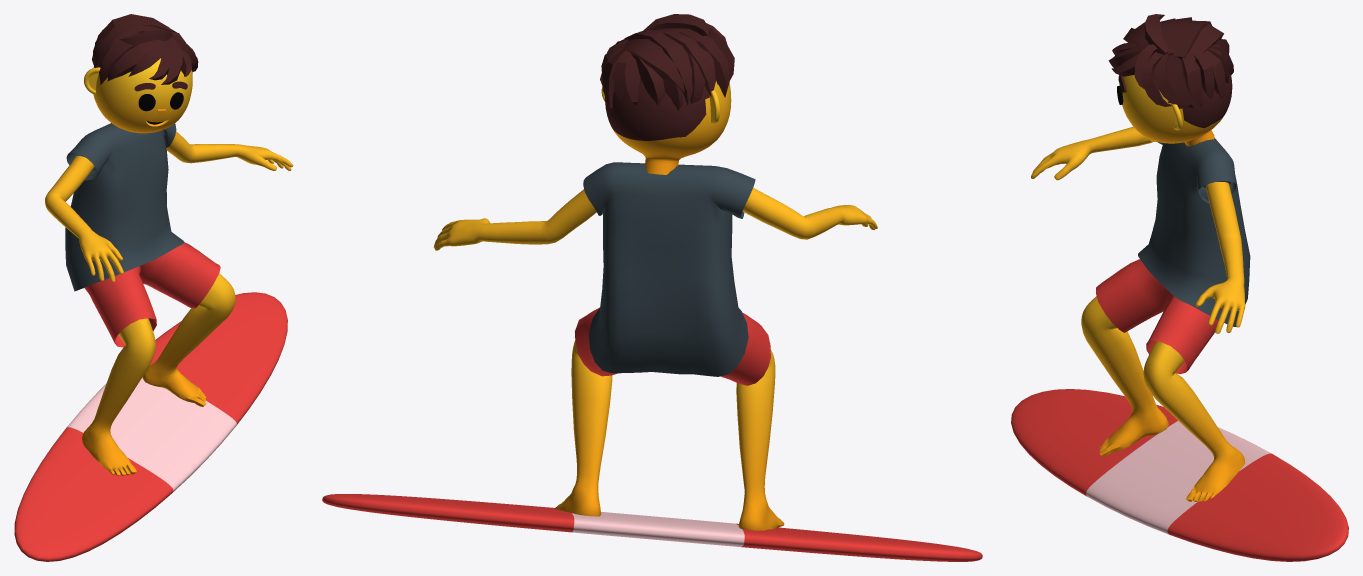
Rendered from person_surfing.fbx.
The picture shows the model from 3 angles, left to right: view 1: azimuth 30°, elevation 25°; view 2: azimuth 150°, elevation 25°; view 3: azimuth 270°, elevation 25°; orthographic projection. The views are drawn at different scales.
Visible parts, largest first — view 1: Circle.106, Plane.043, Cube.265, Roundcube.455, Circle.109; view 2: Circle.106, Plane.043, Cube.265, Roundcube.455; view 3: Circle.106, Plane.043, Cube.265, Roundcube.455.
Part boxes in pixels (box(x1,y1,x2,y2)): Circle.106: box(45, 123, 293, 475); Plane.043: box(14, 292, 287, 561); Cube.265: box(92, 14, 198, 84); Roundcube.455: box(93, 58, 192, 133); Circle.109: box(138, 92, 183, 111); Circle.106: box(433, 162, 877, 530); Plane.043: box(322, 494, 982, 561); Cube.265: box(600, 14, 734, 110); Roundcube.455: box(605, 79, 731, 174); Circle.106: box(1031, 126, 1250, 501); Plane.043: box(1011, 389, 1348, 561); Cube.265: box(1108, 14, 1233, 108); Roundcube.455: box(1119, 60, 1232, 146).
Size of the model in its own units: 196 by 212 by 133.
Materials: 2 (2 with a texture image).
